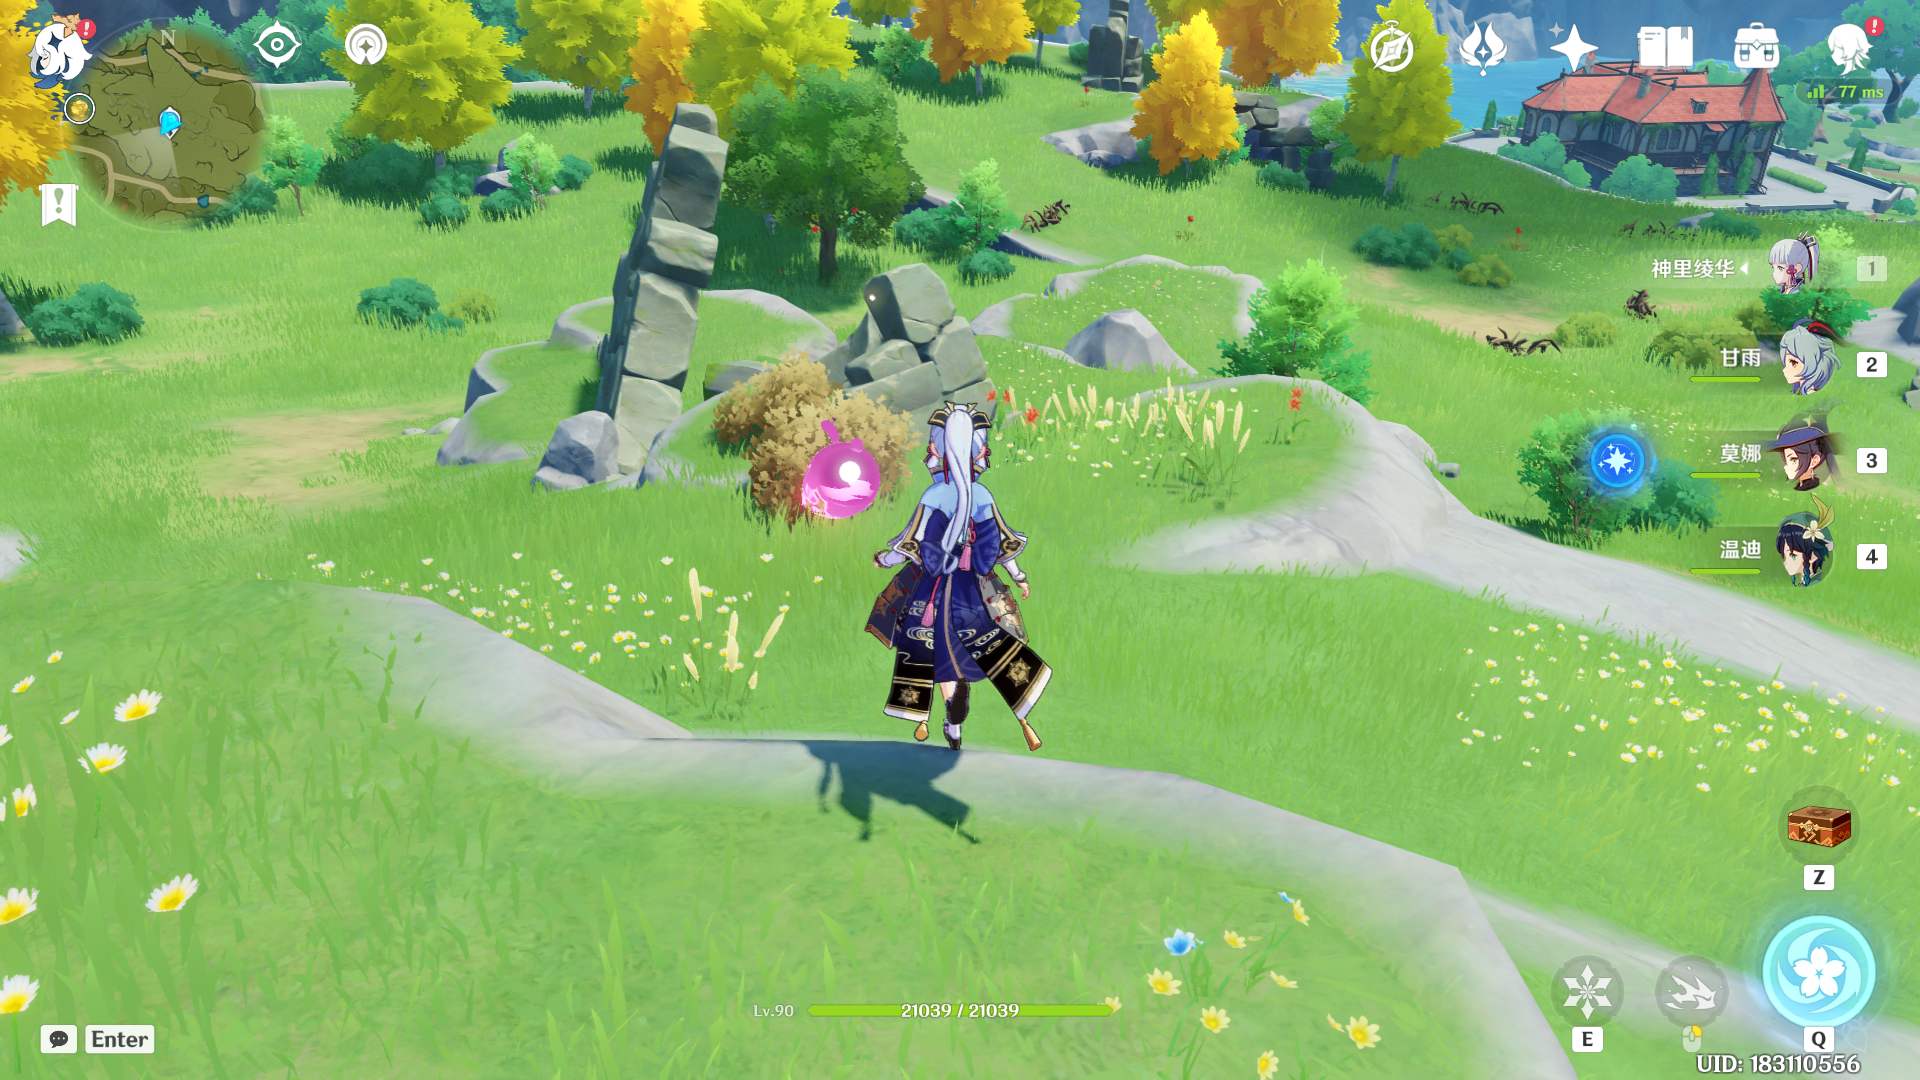character: (808, 389, 1091, 773)
